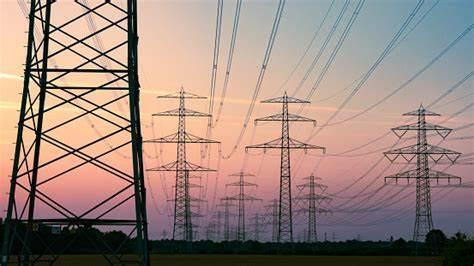power_tower: (241, 89, 325, 250), (379, 102, 461, 252), (143, 86, 217, 252), (294, 170, 335, 246), (226, 168, 266, 240)
